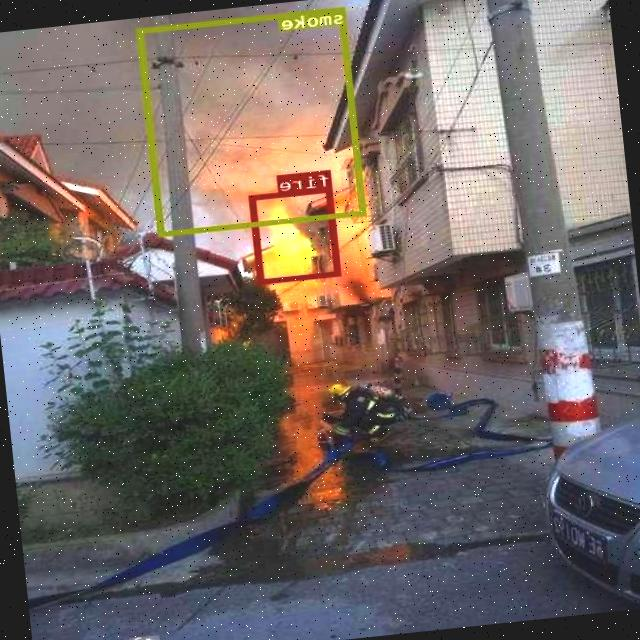fire: (250, 185, 342, 282)
smoke: (138, 6, 368, 236)
